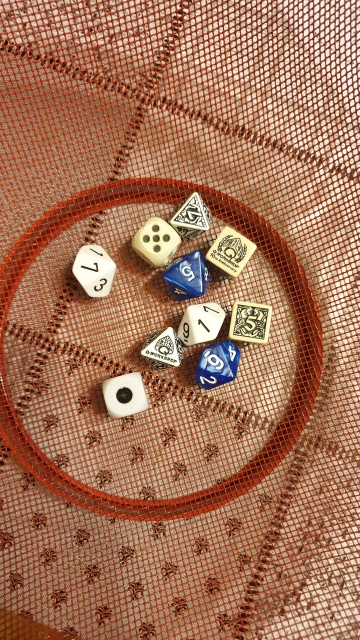d10-1: (174, 300, 227, 346)
d10-5: (160, 249, 211, 298)
d10-6: (195, 340, 246, 389)
d10-7: (67, 238, 119, 301)
d6-1: (94, 367, 151, 422)
d6-5: (127, 212, 179, 270)
d6p-5: (223, 299, 273, 346)
d6p-6: (206, 219, 260, 282)
d8p-7: (170, 188, 213, 238)
d8p-8: (135, 324, 185, 374)
